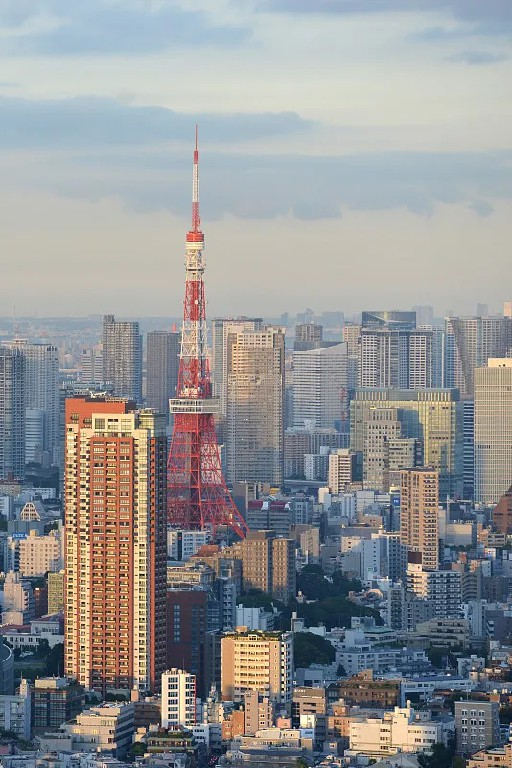Tokyo: (166, 118, 251, 543)
